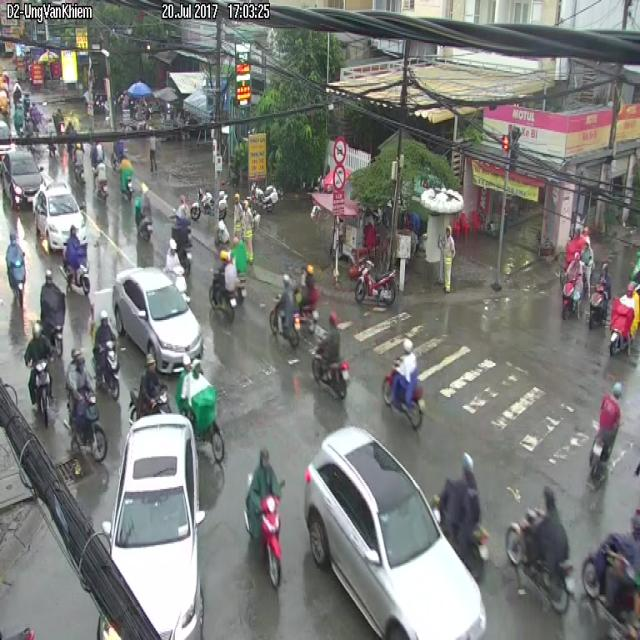car: (245, 449, 283, 539), (72, 396, 107, 461), (259, 492, 281, 588), (351, 259, 395, 305)
traffic-light: (304, 427, 485, 639), (102, 413, 204, 639), (112, 267, 203, 372), (35, 184, 86, 249), (0, 147, 42, 207)
